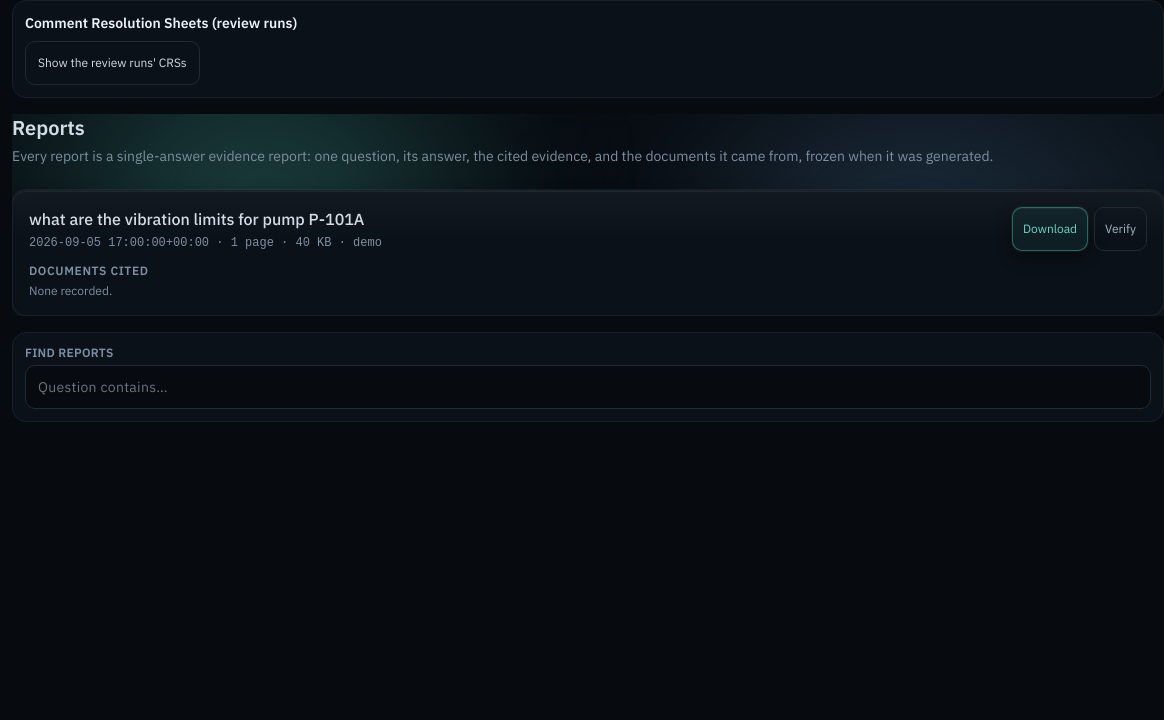
Test case: report download: failure produces a message and no file › 404 says no file came back, and does NOT repeat the backend's 'no report with that id'
The width and height of the screenshot is (1164, 720).
Click the button "Download" at (1050, 229), box [1012,207,1088,251]
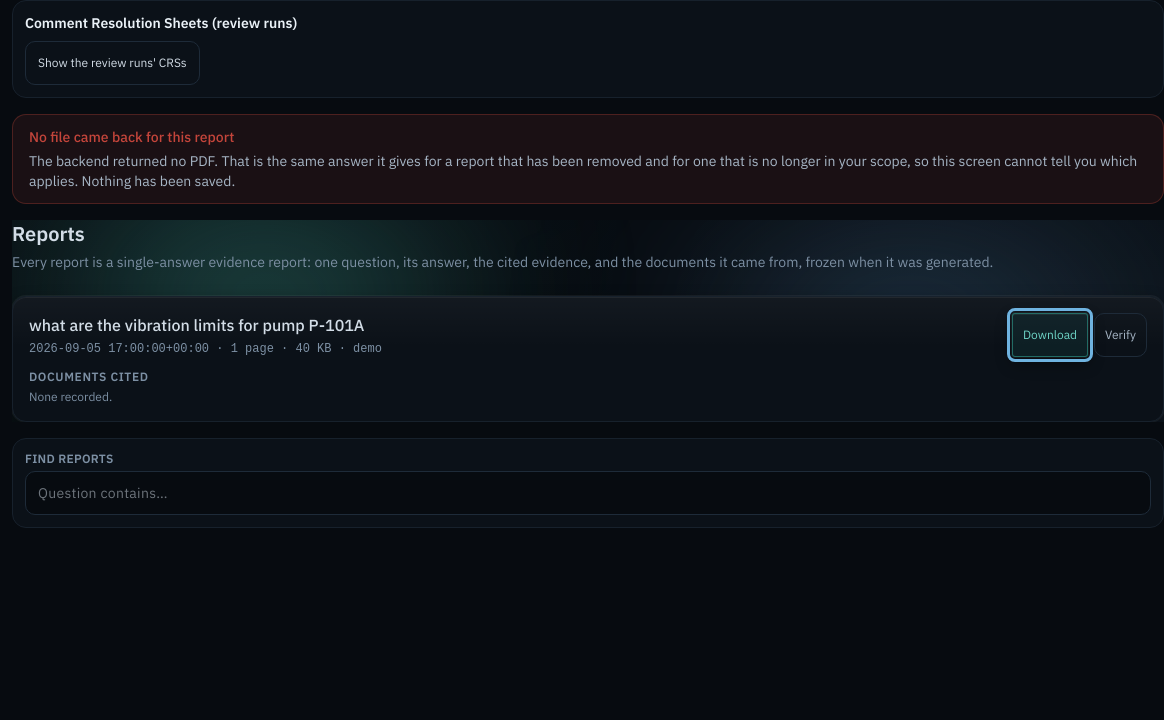
Now the message shows "No file came back for this report", box [29,128,234,146]
Now the message shows "Nothing has been saved.", box [29,152,1137,190]
